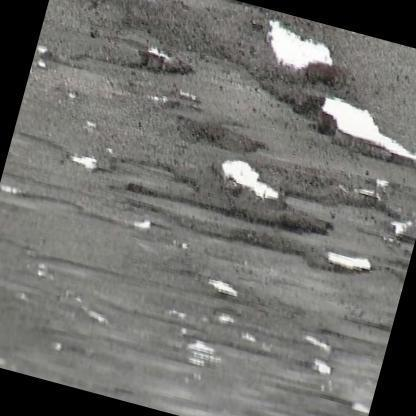pothole: (125, 116, 344, 239), (226, 227, 408, 281), (296, 90, 416, 167), (337, 171, 416, 245), (258, 15, 338, 73), (134, 44, 198, 79), (304, 333, 345, 377), (198, 275, 262, 303), (64, 148, 122, 176)
